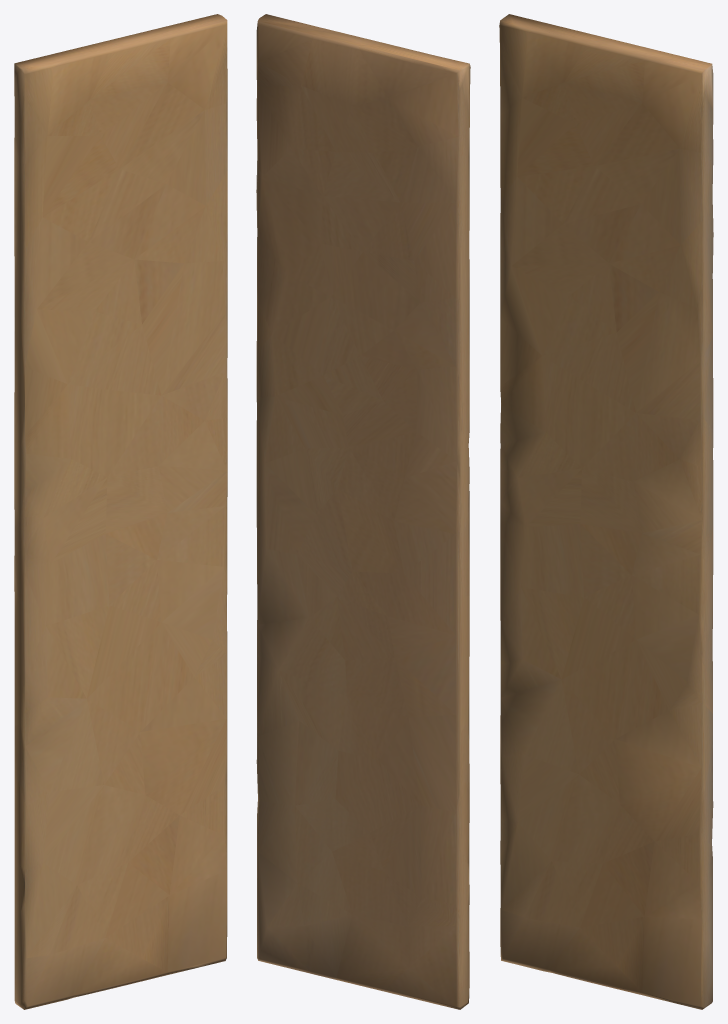
The picture shows the model from 3 angles, left to right: view 1: azimuth 30°, elevation 25°; view 2: azimuth 150°, elevation 25°; view 3: azimuth 330°, elevation 25°; orthographic projection.
Visible parts, largest first — view 1: Mesh_0; view 2: Mesh_0; view 3: Mesh_0.
Boxes of the visible parts, bbox=[...] form: Mesh_0: bbox=[14, 14, 227, 1009]; Mesh_0: bbox=[256, 14, 470, 1009]; Mesh_0: bbox=[499, 14, 713, 1009].
Size of the model in its own units: 45.78 by 200 by 4.4.
